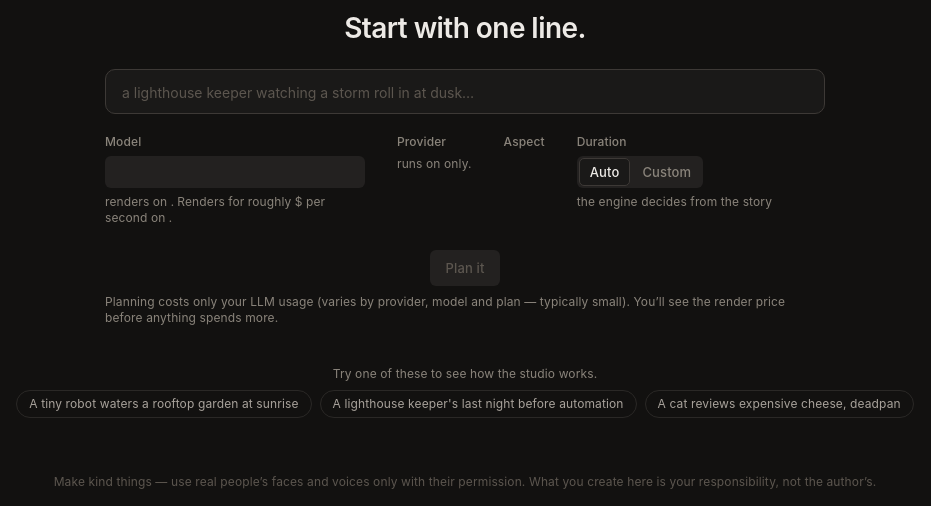
Home — recent & example chips › zero runs: no Recent section; the example chips fill the idea input
The width and height of the screenshot is (931, 506).
Check: the text "Try one of these to see how the studio works." is shown, box [333,366,597,381]
Click the button "A cat reviews expensive cheese, deadpan" at (779, 404), box [645,390,914,418]
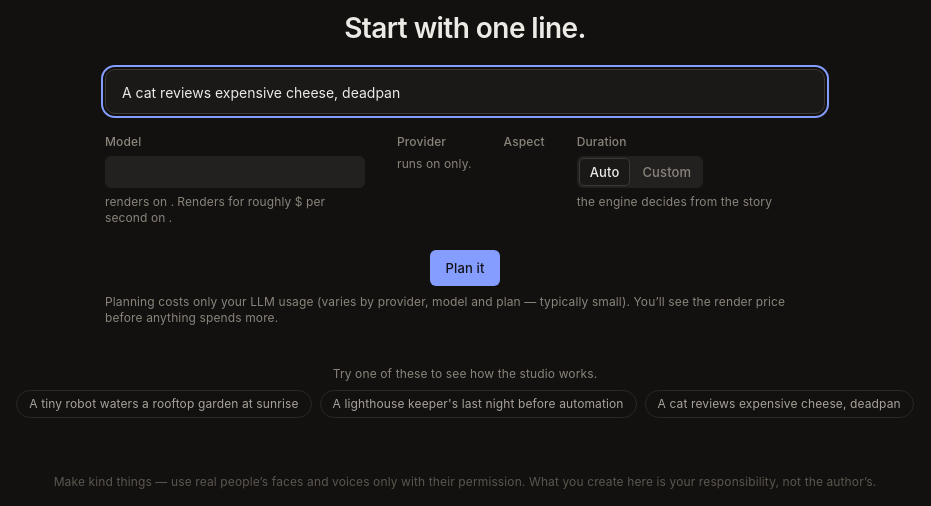
Check: the text box named "Your idea, in one line" holds "A cat reviews expensive cheese, deadpan", box [105,69,825,114]
